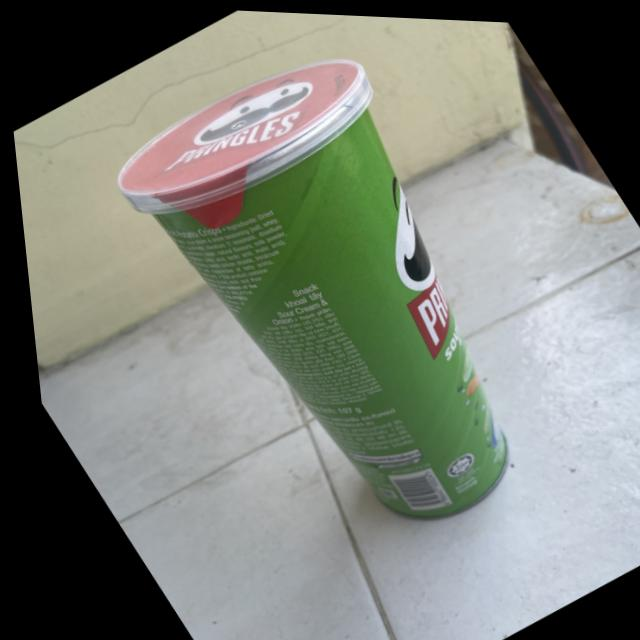a pringles: (80, 14, 610, 581)
